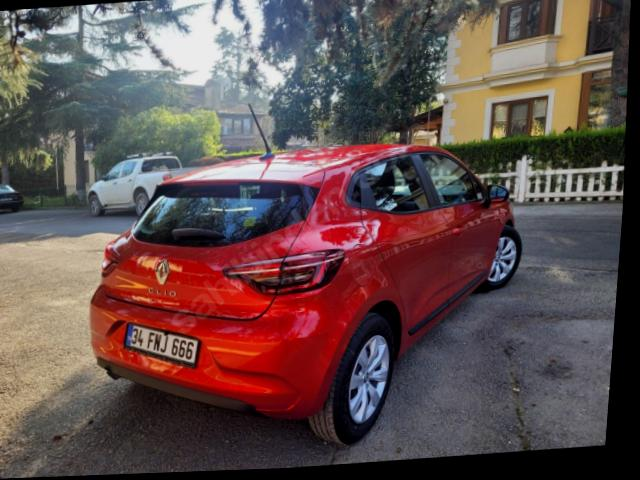plaka: (125, 325, 198, 366)
